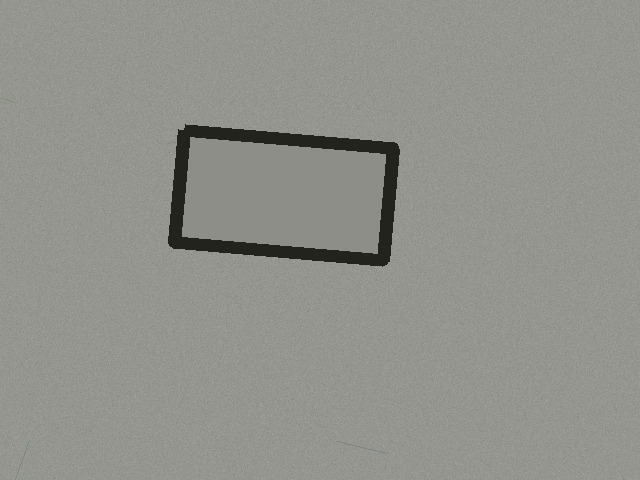parking_area: (174, 130, 393, 260)
